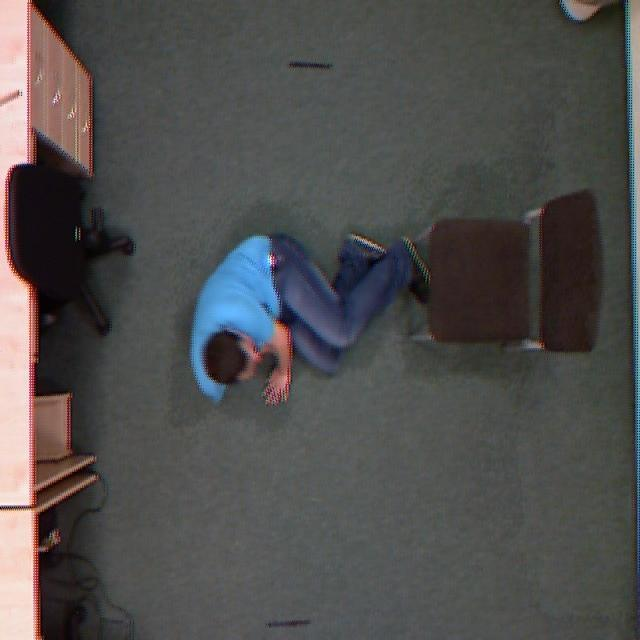fall detected: (178, 215, 438, 409)
